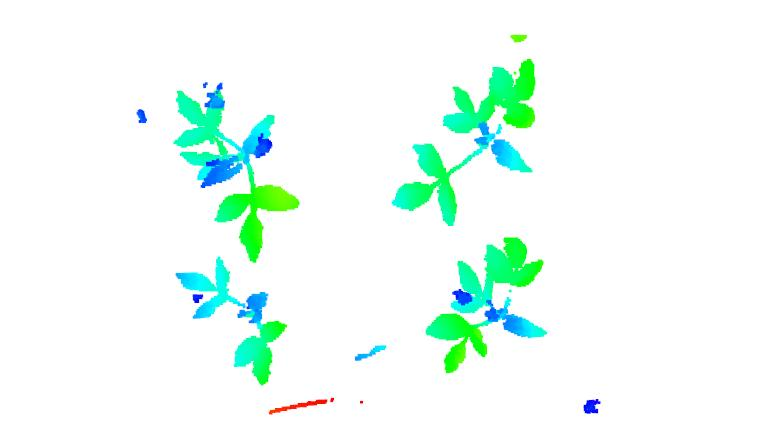mungbean: (389, 55, 544, 226), (170, 79, 298, 261), (424, 237, 552, 375), (174, 259, 289, 388)
